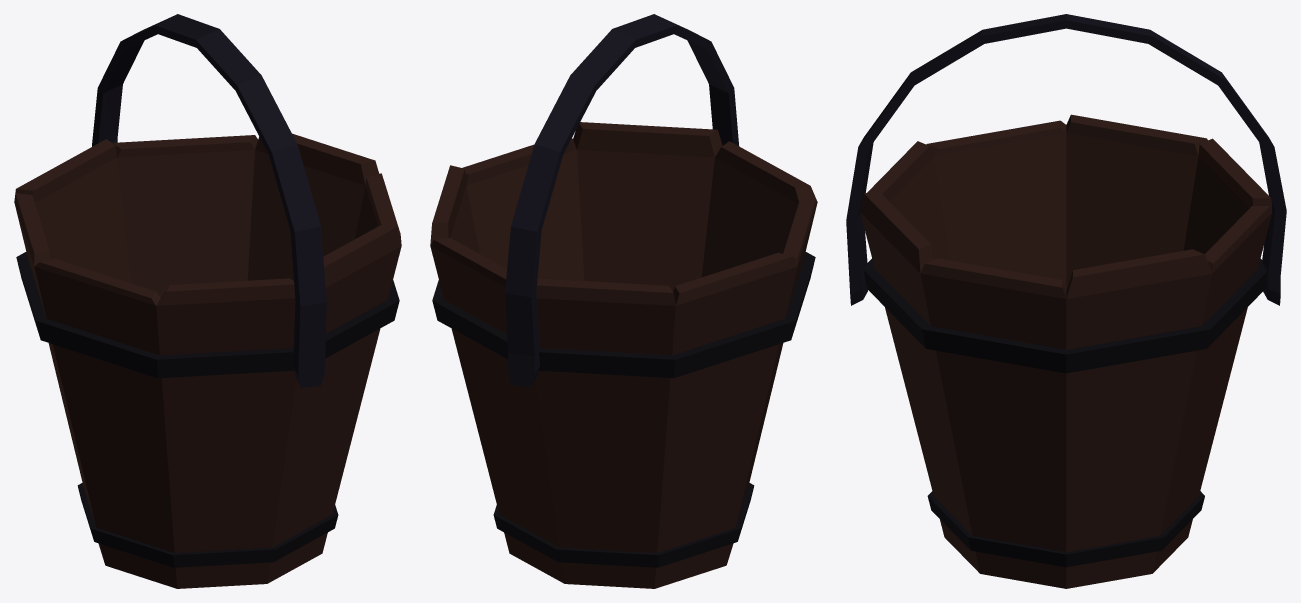
File: Bucket_Cylinder.obj
3 renders of one model, left to right at view 1: azimuth 30°, elevation 25°; view 2: azimuth 150°, elevation 25°; view 3: azimuth 270°, elevation 25°, orthographic. The views are drawn at different scales.
Parts seen in each view (by area): view 1: Bucket_Cylinder.049; view 2: Bucket_Cylinder.049; view 3: Bucket_Cylinder.049.
Part boxes in pixels (box(x1,y1,x2,y2)): Bucket_Cylinder.049: box(14, 14, 401, 588); Bucket_Cylinder.049: box(430, 14, 817, 588); Bucket_Cylinder.049: box(846, 14, 1286, 588).
Size of the model in its own units: 0.3782 by 0.5294 by 0.4041.
